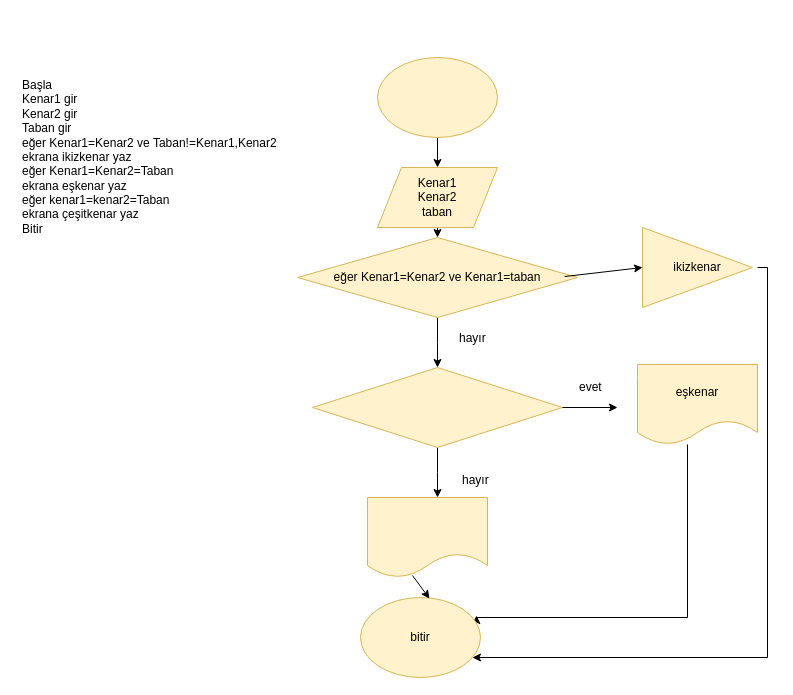
Image size: 793x695. Some labels were removed from this diagram. The shapes that lost their labels are listed below. From the top down, each one's centre as x and y in pixels, then its label:
At point 437,97: "başla".
At point 437,407: "eğer kenar1=kenar2=taban".
At point 427,537: "çeşitkenar".
